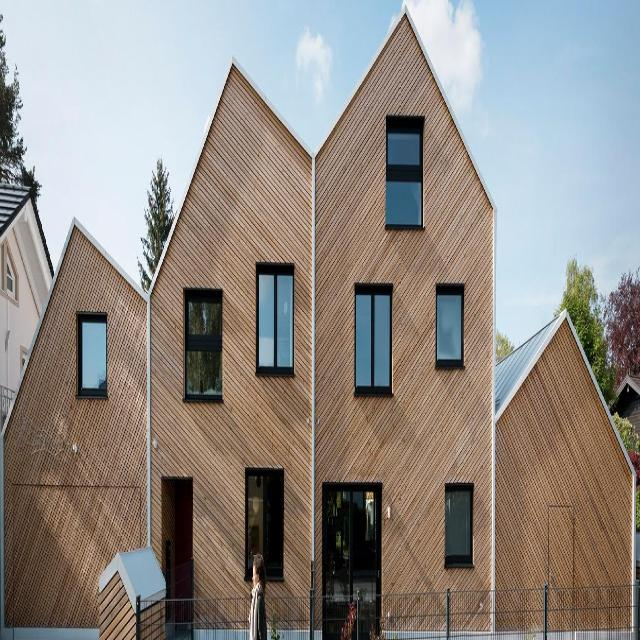door: (322, 484, 381, 639)
plant: (561, 254, 640, 479)
wall: (0, 5, 637, 639)
windows: (258, 262, 296, 376), (243, 471, 282, 581), (354, 284, 393, 394), (184, 289, 224, 396), (385, 120, 423, 230), (80, 314, 108, 396), (437, 285, 464, 370), (446, 486, 473, 570)
